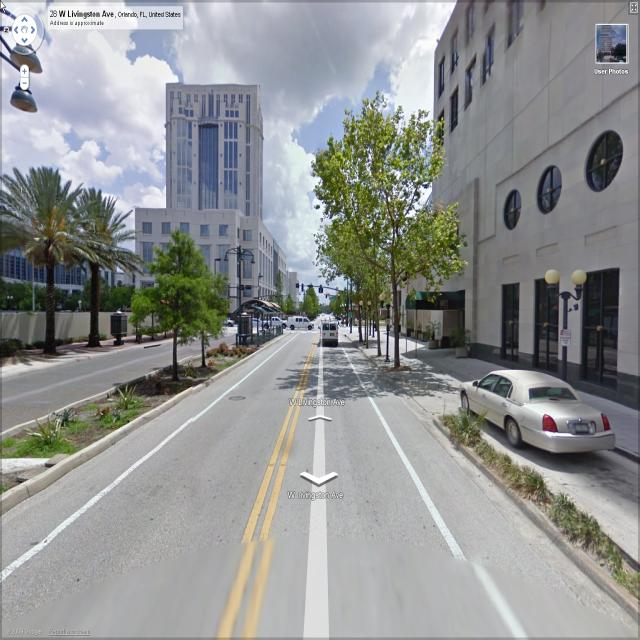b_1: (112, 70, 286, 319)
b_2: (375, 1, 640, 421), (0, 238, 144, 319), (275, 247, 307, 335)
